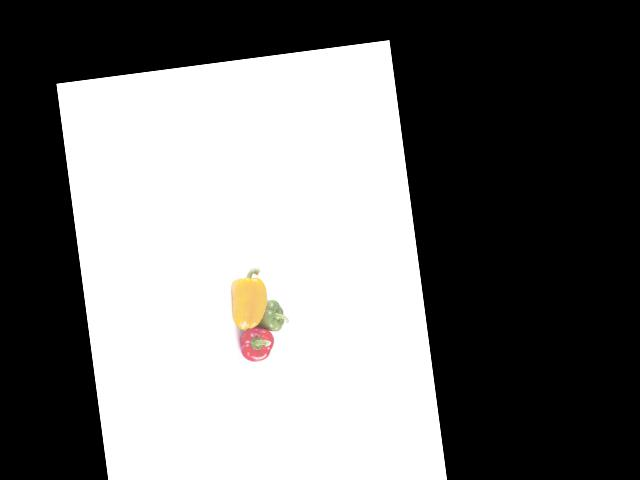bell_pepper: (253, 294, 290, 336)
